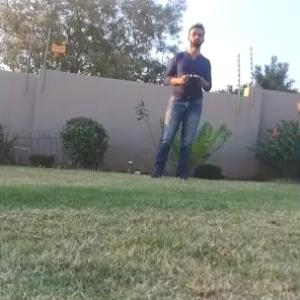follow: (144, 18, 216, 184)
